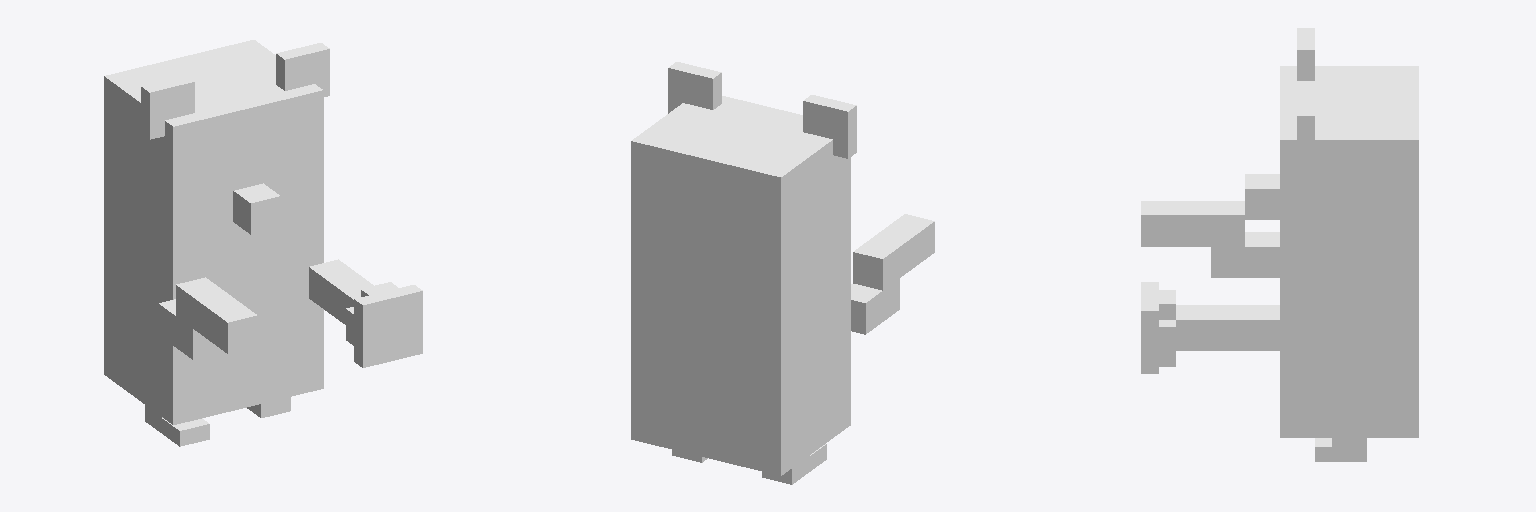
Rendered from panda.obj.
3 renders of one model, left to right at view 1: azimuth 30°, elevation 25°; view 2: azimuth 150°, elevation 25°; view 3: azimuth 270°, elevation 25°, orthographic.
Visible parts, largest first — view 1: panda; view 2: panda; view 3: panda.
Boxes of the visible parts, x1,y1,x2,y2 form: panda: [104, 40, 422, 446]; panda: [631, 62, 934, 484]; panda: [1141, 28, 1418, 461].
Bounding box in the file's own units: 13 × 23 × 16.